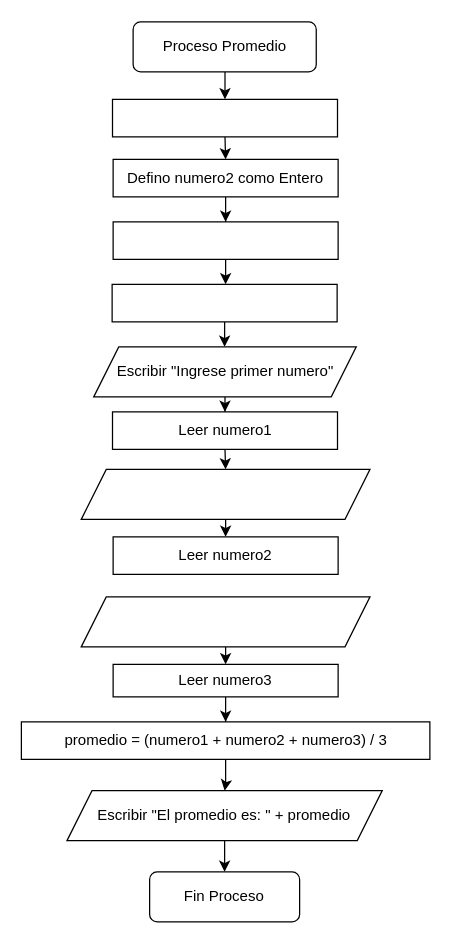
The diagram is 453 pixels wide and 944 high, and some of its shapes have lost their labels. The box of each missing label's shape, as (x1, y1, x2, y2) in pixels:
Defino numero1 como Entero: (111, 98, 338, 137)
Defino numero3 como Entero: (112, 221, 338, 259)
Defino promedio como Entero: (111, 283, 337, 322)
Escribir "Ingrese segundo numero": (80, 468, 370, 519)
Escribir "Ingrese tercer numero": (80, 596, 370, 647)
